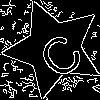C: (28, 23, 87, 82)
